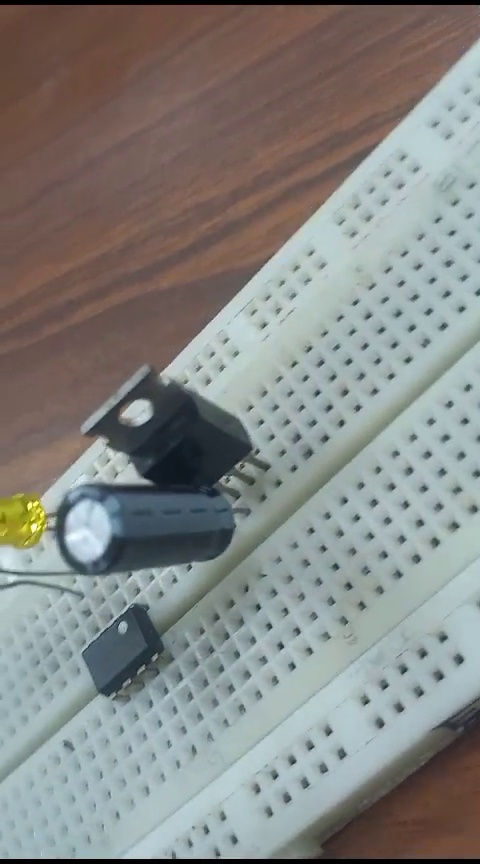IC: (84, 608, 167, 681)
LED: (1, 491, 44, 549)
capacitor: (52, 479, 247, 580)
voltage regulator: (56, 361, 272, 485)
